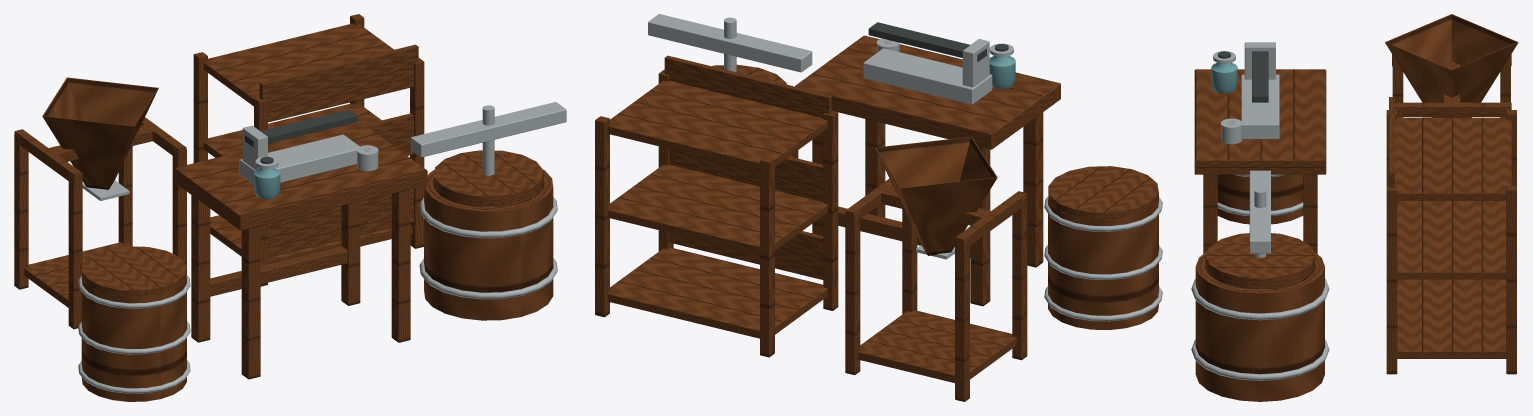
Rendered from survival-food-and-preservation-preservation-bench-72c2eeaa__21824.glb.
The picture shows the model from 3 angles, left to right: view 1: azimuth 30°, elevation 25°; view 2: azimuth 150°, elevation 25°; view 3: azimuth 270°, elevation 25°; orthographic projection. The views are drawn at different scales.
Parts seen in each view (by area): view 1: 005-root-storage-bin/0, 000-sealing-bench/0, 006-grain-hopper/0, 004-fruit-press/0, 003-pickle-barrel/0, 004-fruit-press/1, 000-sealing-bench/1, 003-pickle-barrel/1, 000-sealing-bench/sealing-jaw/dark, 001-preserving-jar/0, 002-sealed-ration-tin/0, 006-grain-hopper/slide/metal; view 2: 005-root-storage-bin/0, 006-grain-hopper/0, 000-sealing-bench/0, 003-pickle-barrel/0, 000-sealing-bench/1, 004-fruit-press/1, 003-pickle-barrel/1, 000-sealing-bench/sealing-jaw/dark, 001-preserving-jar/0, 004-fruit-press/0; view 3: 005-root-storage-bin/0, 004-fruit-press/0, 000-sealing-bench/0, 006-grain-hopper/0, 004-fruit-press/1, 000-sealing-bench/1, 003-pickle-barrel/0, 000-sealing-bench/sealing-jaw/dark, 001-preserving-jar/0, 002-sealed-ration-tin/0, 003-pickle-barrel/1.
Part boxes in pixels (x1=…): 005-root-storage-bin/0: x1=193, y1=14, x2=424, y2=286; 000-sealing-bench/0: x1=174, y1=122, x2=427, y2=379; 006-grain-hopper/0: x1=14, y1=77, x2=186, y2=329; 004-fruit-press/0: x1=424, y1=150, x2=553, y2=320; 003-pickle-barrel/0: x1=81, y1=246, x2=186, y2=401; 004-fruit-press/1: x1=410, y1=102, x2=566, y2=299; 000-sealing-bench/1: x1=239, y1=125, x2=359, y2=184; 003-pickle-barrel/1: x1=78, y1=275, x2=190, y2=393; 000-sealing-bench/sealing-jaw/dark: x1=245, y1=110, x2=357, y2=147; 001-preserving-jar/0: x1=254, y1=168, x2=280, y2=199; 002-sealed-ration-tin/0: x1=356, y1=145, x2=378, y2=171; 006-grain-hopper/slide/metal: x1=82, y1=180, x2=129, y2=200; 005-root-storage-bin/0: x1=595, y1=55, x2=838, y2=357; 006-grain-hopper/0: x1=845, y1=136, x2=1027, y2=401; 000-sealing-bench/0: x1=795, y1=35, x2=1060, y2=306; 003-pickle-barrel/0: x1=1048, y1=166, x2=1158, y2=329; 000-sealing-bench/1: x1=863, y1=39, x2=992, y2=104; 004-fruit-press/1: x1=648, y1=14, x2=812, y2=72; 003-pickle-barrel/1: x1=1044, y1=196, x2=1162, y2=321; 000-sealing-bench/sealing-jaw/dark: x1=868, y1=22, x2=986, y2=61; 001-preserving-jar/0: x1=989, y1=56, x2=1015, y2=88; 004-fruit-press/0: x1=712, y1=64, x2=798, y2=158; 005-root-storage-bin/0: x1=1386, y1=97, x2=1516, y2=374; 004-fruit-press/0: x1=1195, y1=233, x2=1324, y2=401; 000-sealing-bench/0: x1=1194, y1=69, x2=1326, y2=253; 006-grain-hopper/0: x1=1385, y1=14, x2=1518, y2=117; 004-fruit-press/1: x1=1191, y1=170, x2=1329, y2=380; 000-sealing-bench/1: x1=1241, y1=42, x2=1279, y2=139; 003-pickle-barrel/0: x1=1217, y1=174, x2=1303, y2=224; 000-sealing-bench/sealing-jaw/dark: x1=1252, y1=51, x2=1268, y2=102; 001-preserving-jar/0: x1=1211, y1=62, x2=1237, y2=93; 002-sealed-ration-tin/0: x1=1220, y1=118, x2=1242, y2=144; 003-pickle-barrel/1: x1=1217, y1=174, x2=1303, y2=216.
Size of the model in its own units: 2.29 by 1 by 1.37.
Materials: 4 (1 with a texture image).
